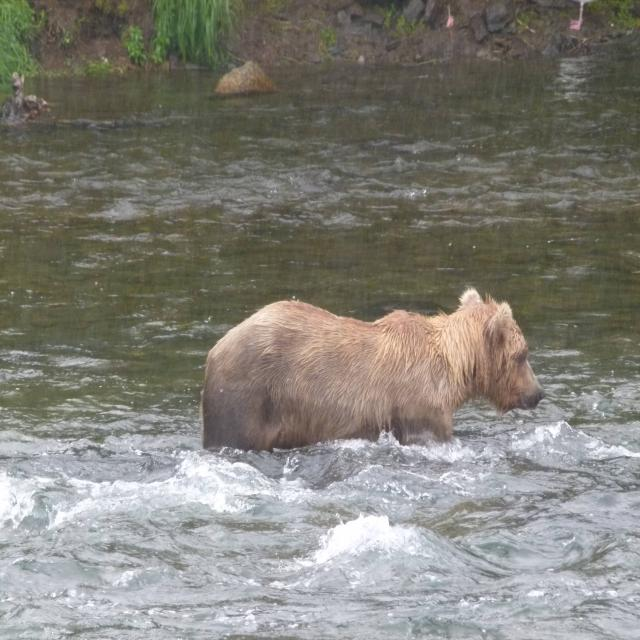bear face: (201, 288, 548, 443)
